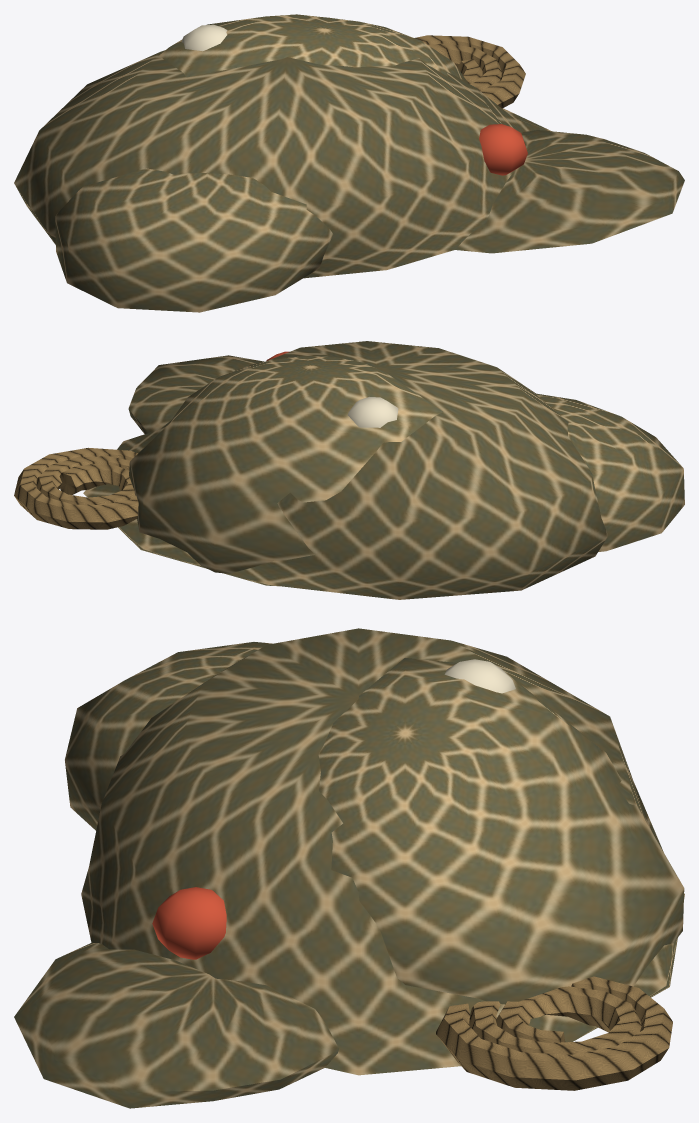
Rendered from net-heap.glb.
3 views of the same model, one above another, from view 1: azimuth 30°, elevation 25°; view 2: azimuth 150°, elevation 25°; view 3: azimuth 270°, elevation 25° (orthographic). The views are drawn at different scales.
Parts seen in each view (by area): view 1: net-heap; view 2: net-heap; view 3: net-heap.
Boxes of the visible parts, <box> form: net-heap: <box>14,14,684,312</box>; net-heap: <box>14,341,684,599</box>; net-heap: <box>14,628,684,1108</box>.
Bounding box in the file's own units: 1.59 × 0.3914 × 1.15.
Materials: 3 (2 with a texture image).
